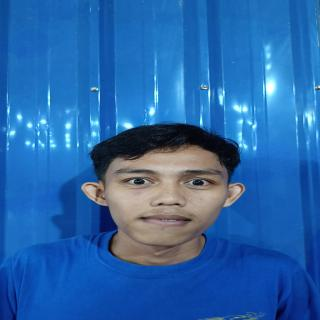Marah: (97, 144, 243, 253)
